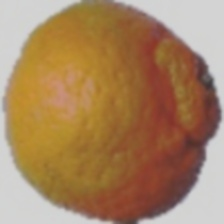tangerine: (25, 13, 184, 204)
